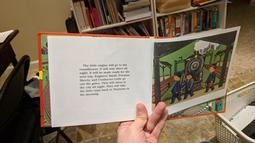text block: (75, 61, 132, 98)
